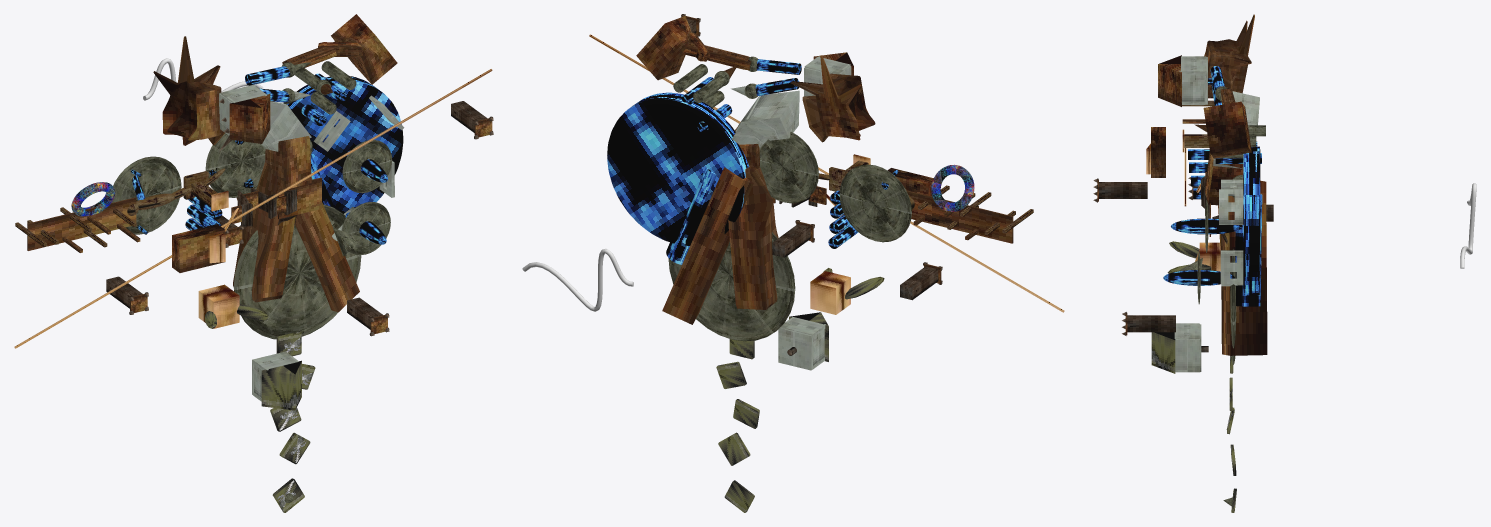
File: funworld.glb
The picture shows the model from 3 angles, left to right: view 1: azimuth 30°, elevation 25°; view 2: azimuth 150°, elevation 25°; view 3: azimuth 270°, elevation 25°; orthographic projection. The views are drawn at different scales.
Visible parts, largest first — view 1: Cylinder.015, Sphere.008, Cube.058, Cube.055, Cube.056, Sphere.013, Sphere.009, Cube.010, Cube.053, Cube.037, Cube.030, Cube.047 (+16 smaller); view 2: Cylinder.015, Cube.055, Cube.056, Sphere.008, Sphere.013, Cube.058, Sphere.009, Cube.010, Cube.053, Cube.039, Cube.040, Cylinder.016 (+11 smaller); view 3: Cube.056, Cylinder.015, Cube.053, Cube.058, Cube.030, Cube.047, Cube.037, Cube.048, Cube.076, Cube.077, Cube.060, Sphere.001 (+10 smaller).
Part boxes in pixels (x1,y1,x2,y2): Cylinder.015: [283, 76, 403, 213]; Sphere.008: [233, 204, 361, 339]; Cube.058: [153, 36, 224, 145]; Cube.055: [233, 162, 295, 302]; Cube.056: [295, 178, 359, 312]; Sphere.013: [111, 156, 181, 234]; Sphere.009: [205, 133, 265, 197]; Cube.010: [27, 197, 136, 250]; Cube.053: [331, 14, 397, 84]; Cube.037: [265, 136, 311, 189]; Cube.030: [229, 94, 270, 143]; Cube.047: [261, 360, 301, 410]; Cylinder.015: [607, 92, 749, 245]; Cube.055: [728, 167, 778, 309]; Cube.056: [662, 167, 753, 324]; Sphere.008: [668, 232, 795, 341]; Sphere.013: [839, 164, 911, 242]; Cube.058: [791, 55, 875, 142]; Sphere.009: [759, 132, 818, 203]; Cube.010: [906, 190, 1013, 243]; Cube.053: [636, 16, 691, 80]; Cube.039: [741, 90, 799, 140]; Cube.040: [810, 271, 850, 314]; Cylinder.016: [666, 167, 716, 264]; Cube.056: [1221, 180, 1267, 355]; Cylinder.015: [1243, 146, 1260, 295]; Cube.053: [1203, 101, 1251, 158]; Cube.058: [1204, 14, 1254, 96]; Cube.030: [1158, 55, 1181, 106]; Cube.047: [1151, 332, 1175, 373]; Cube.037: [1204, 150, 1243, 205]; Cube.048: [1175, 339, 1200, 372]; Cube.076: [1127, 315, 1175, 332]; Cube.077: [1099, 182, 1147, 198]; Cube.060: [1219, 189, 1243, 224]; Sphere.001: [1171, 218, 1242, 234].
Size of the model in its own units: 634 by 622 by 472.
Materials: 43 (43 with a texture image).
